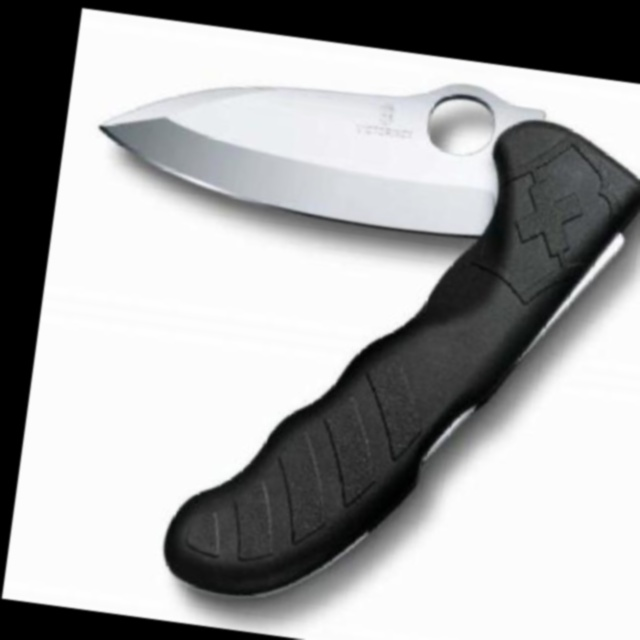Sharp-Object: (38, 38, 640, 640)
